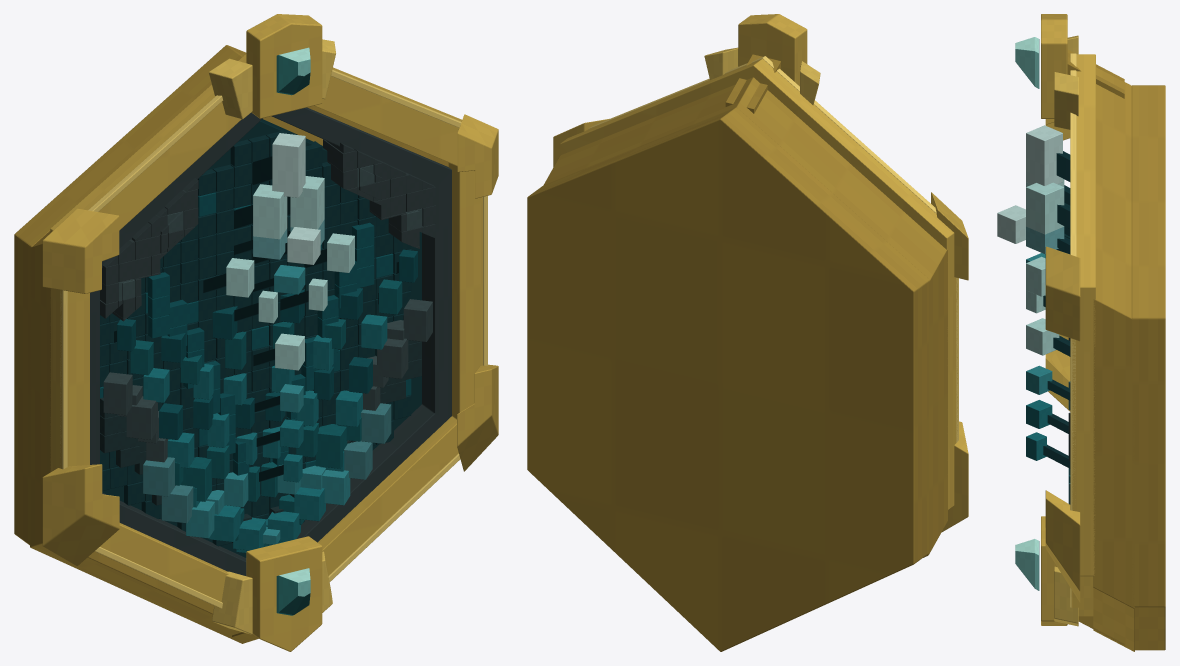
Rendered from SM_Blender_DeepDelverMark.glb.
3 views of the same model, side by side, from view 1: azimuth 30°, elevation 25°; view 2: azimuth 150°, elevation 25°; view 3: azimuth 270°, elevation 25° (orthographic). The views are drawn at different scales.
Visible parts, largest first — view 1: SM_Blender_DeepDelverMark; view 2: SM_Blender_DeepDelverMark; view 3: SM_Blender_DeepDelverMark.
Part boxes in pixels (x1=…): SM_Blender_DeepDelverMark: x1=14, y1=14, x2=498, y2=651; SM_Blender_DeepDelverMark: x1=527, y1=14, x2=968, y2=651; SM_Blender_DeepDelverMark: x1=997, y1=14, x2=1165, y2=651.
Bounding box in the file's own units: 0.9508 × 1.31 × 0.3158.
Materials: 3 (3 with a texture image).
